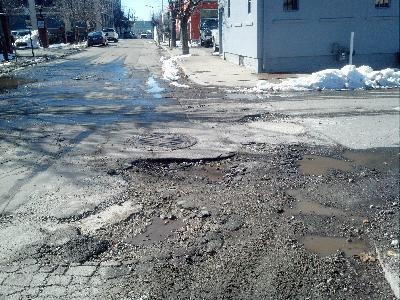pothole: (92, 194, 217, 261), (119, 149, 238, 186), (281, 145, 386, 179), (294, 228, 374, 260), (277, 184, 347, 217), (237, 113, 291, 125)
